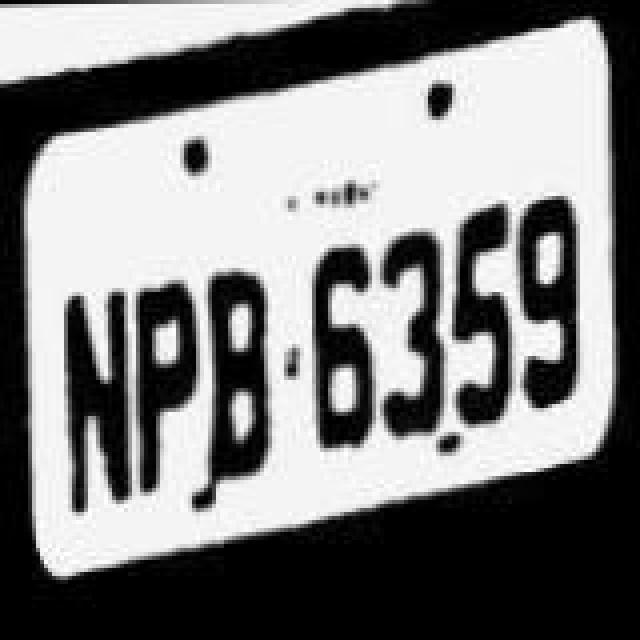3: (378, 224, 450, 440)
5: (450, 164, 522, 436)
6: (304, 234, 380, 498)
9: (512, 172, 588, 436)
B: (196, 240, 280, 504)
N: (56, 254, 136, 522)
P: (130, 240, 202, 500)
